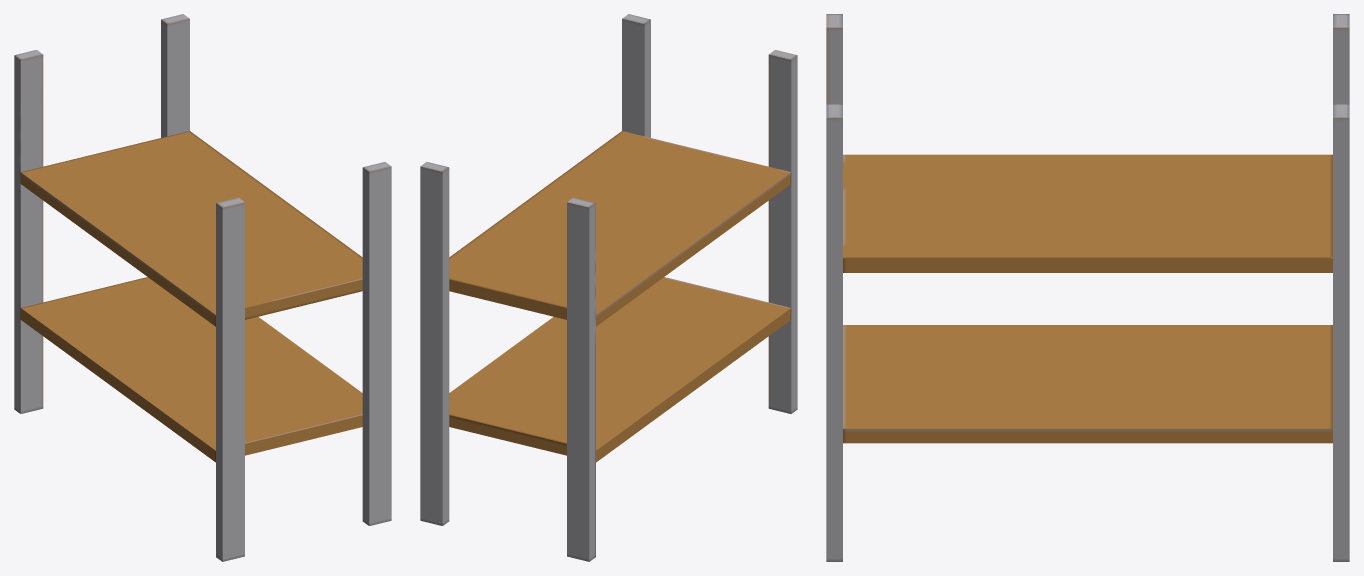
File: SimpleShelf.fbx
3 renders of one model, left to right at view 1: azimuth 30°, elevation 25°; view 2: azimuth 150°, elevation 25°; view 3: azimuth 270°, elevation 25°, orthographic. The views are drawn at different scales.
Visible parts, largest first — view 1: cube_1, cube, cube_3, cube_2, cube_4, cube_5; view 2: cube_1, cube, cube_5, cube_4, cube_2, cube_3; view 3: cube, cube_1, cube_3, cube_5, cube_2, cube_4.
Boxes of the visible parts, bbox=[...] form: cube_1: bbox=[20, 131, 362, 326]; cube: bbox=[20, 277, 362, 462]; cube_3: bbox=[362, 162, 391, 525]; cube_2: bbox=[216, 197, 244, 561]; cube_4: bbox=[14, 50, 43, 413]; cube_5: bbox=[161, 14, 189, 137]; cube_1: bbox=[449, 131, 791, 326]; cube: bbox=[449, 277, 791, 462]; cube_5: bbox=[420, 162, 449, 525]; cube_4: bbox=[567, 197, 595, 561]; cube_2: bbox=[768, 50, 797, 413]; cube_3: bbox=[622, 14, 650, 137]; cube: bbox=[843, 325, 1332, 443]; cube_1: bbox=[843, 154, 1332, 272]; cube_3: bbox=[826, 103, 842, 561]; cube_5: bbox=[1333, 103, 1349, 561]; cube_2: bbox=[826, 14, 842, 103]; cube_4: bbox=[1333, 14, 1349, 103].
Bounding box in the file's own units: 188 × 375 × 400.
Materials: 1 (1 with a texture image).
